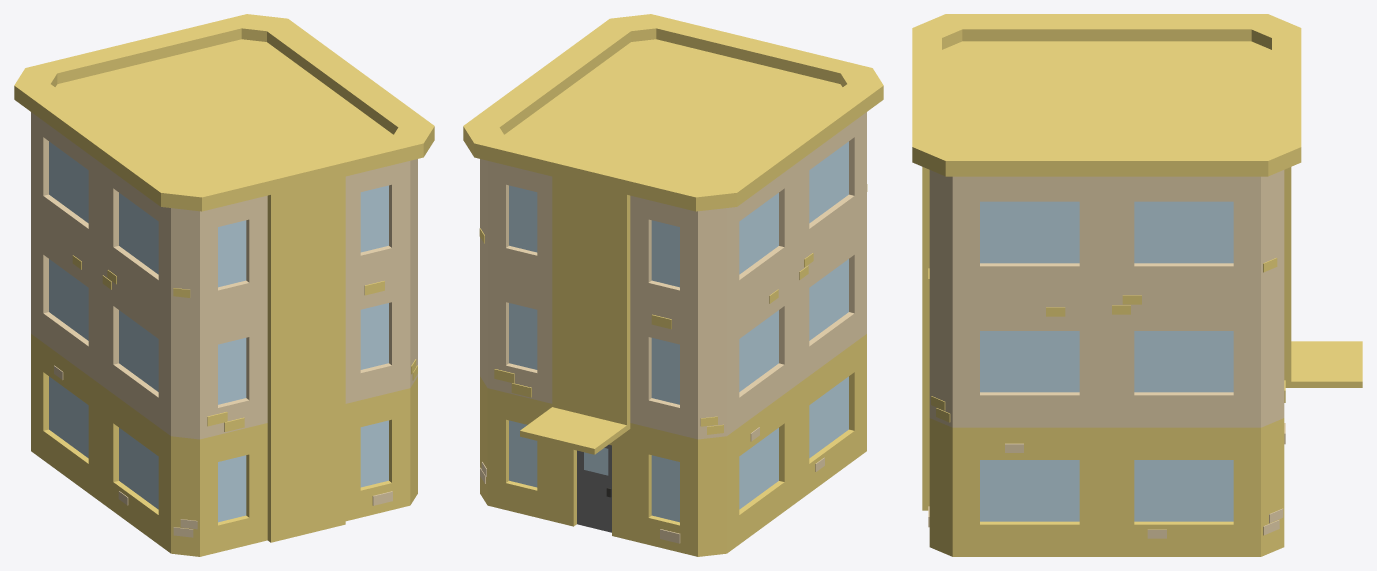
Rendered from Building_8.fbx.
3 renders of one model, left to right at view 1: azimuth 30°, elevation 25°; view 2: azimuth 150°, elevation 25°; view 3: azimuth 270°, elevation 25°, orthographic. The views are drawn at different scales.
Parts seen in each view (by area): view 1: Building_8; view 2: Building_8; view 3: Building_8.
Part boxes in pixels (bbox=[...]): Building_8: bbox=[14, 14, 434, 556]; Building_8: bbox=[463, 14, 883, 556]; Building_8: bbox=[912, 14, 1362, 556].
Bounding box in the file's own units: 19.52 × 24.96 × 25.25.
Materials: 1 (1 with a texture image).
